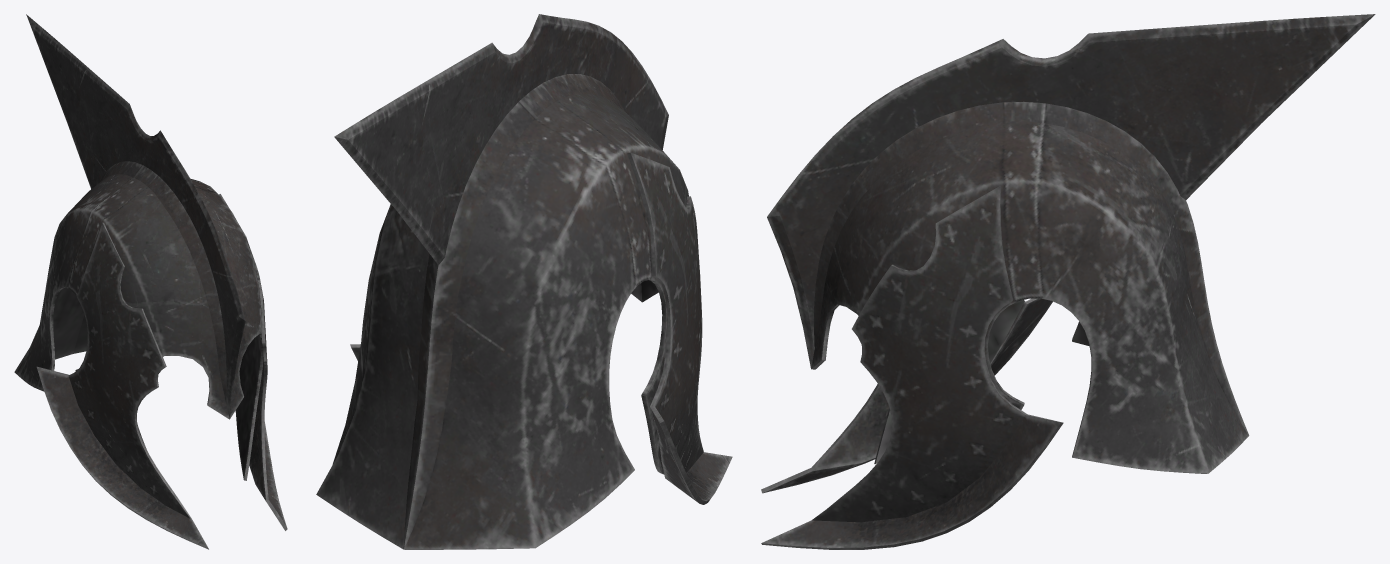
The model's file is sk_uruk_mordor_helmet_elite_d1.fbx.
3 renders of one model, left to right at view 1: azimuth 30°, elevation 25°; view 2: azimuth 150°, elevation 25°; view 3: azimuth 270°, elevation 25°, orthographic. The views are drawn at different scales.
Parts seen in each view (by area): view 1: sk_uruk_mordor_helmet_elite_d1; view 2: sk_uruk_mordor_helmet_elite_d1; view 3: sk_uruk_mordor_helmet_elite_d1.
Part boxes in pixels (x1,y1,x2,y2): sk_uruk_mordor_helmet_elite_d1: (14,14,287,549); sk_uruk_mordor_helmet_elite_d1: (316,14,732,549); sk_uruk_mordor_helmet_elite_d1: (761,14,1375,549).
Size of the model in its own units: 0.2307 by 0.43 by 0.3899.
Materials: 1 (1 with a texture image).
